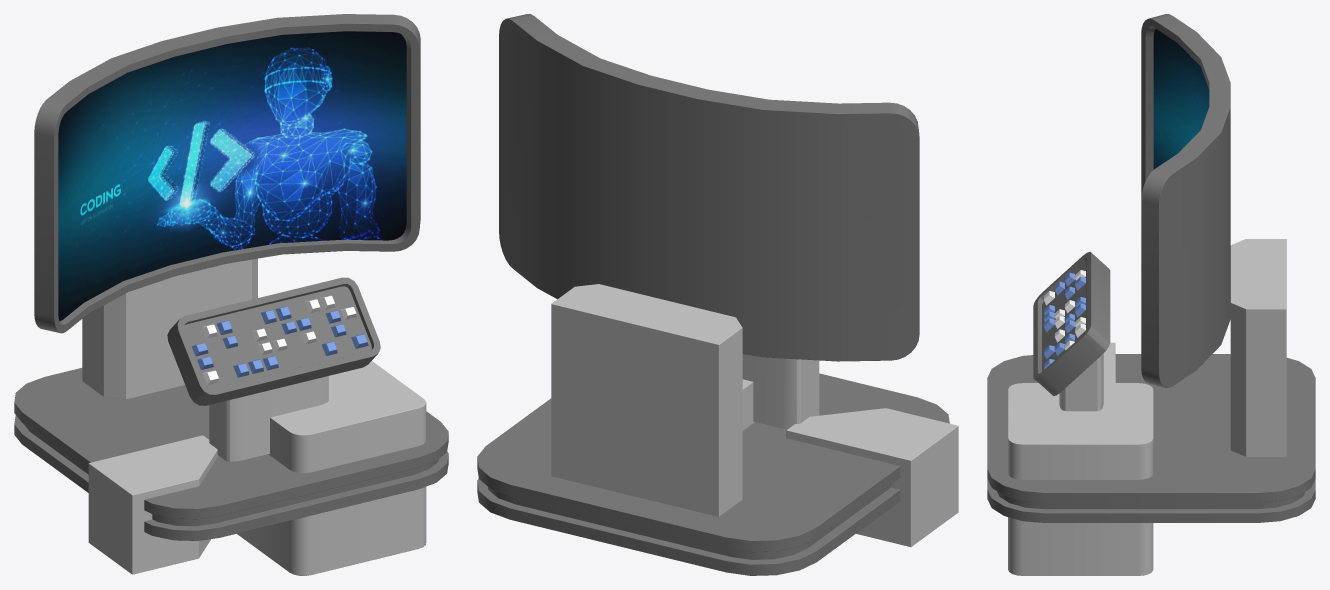
3 views of the same model, side by side, from view 1: azimuth 30°, elevation 25°; view 2: azimuth 150°, elevation 25°; view 3: azimuth 270°, elevation 25° (orthographic). The views are drawn at different scales.
Parts seen in each view (by area): view 1: PC; view 2: PC; view 3: PC.
Boxes of the visible parts, x1=… form: PC: x1=14, y1=14, x2=448, y2=575; PC: x1=477, y1=14, x2=958, y2=575; PC: x1=987, y1=14, x2=1315, y2=575.
Size of the model in its own units: 10.15 by 11.42 by 8.
5 materials, 1 textured.
